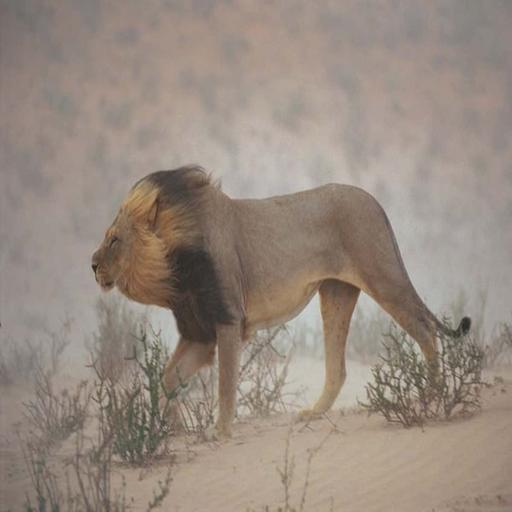Lion: (84, 156, 473, 439)
